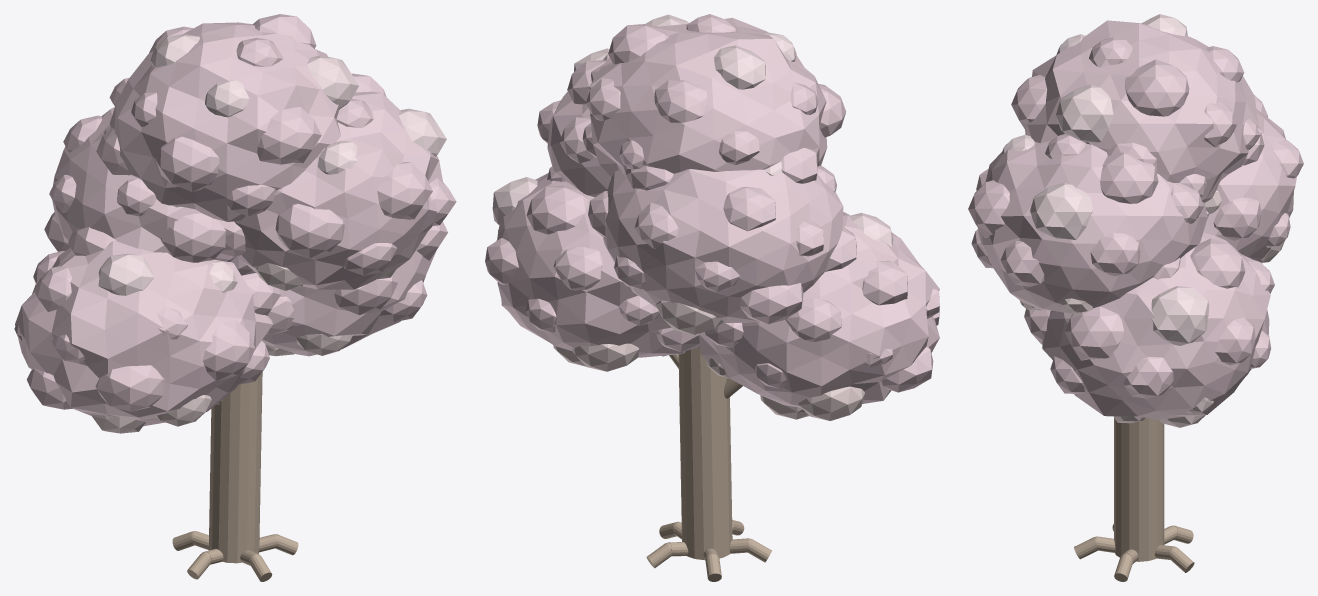
File: library_tree_cherry.glb
The picture shows the model from 3 angles, left to right: view 1: azimuth 30°, elevation 25°; view 2: azimuth 150°, elevation 25°; view 3: azimuth 270°, elevation 25°; orthographic projection.
Parts seen in each view (by area): view 1: decor_c49aaa_matte, decor_806751_matte, decor_ddbac3_matte, decor_c5a5a8_matte; view 2: decor_c49aaa_matte, decor_806751_matte, decor_c5a5a8_matte, decor_ddbac3_matte; view 3: decor_c49aaa_matte, decor_ddbac3_matte, decor_806751_matte, decor_c5a5a8_matte.
Part boxes in pixels (bbox=[...]): decor_c49aaa_matte: bbox=[14, 14, 456, 426]; decor_806751_matte: bbox=[172, 372, 298, 581]; decor_ddbac3_matte: bbox=[98, 34, 446, 295]; decor_c5a5a8_matte: bbox=[91, 206, 396, 433]; decor_c49aaa_matte: bbox=[485, 14, 939, 407]; decor_806751_matte: bbox=[646, 346, 771, 581]; decor_c5a5a8_matte: bbox=[501, 175, 864, 420]; decor_ddbac3_matte: bbox=[492, 14, 893, 246]; decor_c49aaa_matte: bbox=[968, 20, 1303, 419]; decor_ddbac3_matte: bbox=[1001, 14, 1209, 345]; decor_806751_matte: bbox=[1074, 418, 1194, 581]; decor_c5a5a8_matte: bbox=[1019, 190, 1284, 427].
Bounding box in the file's own units: 3.39 × 4.1 × 2.39.
